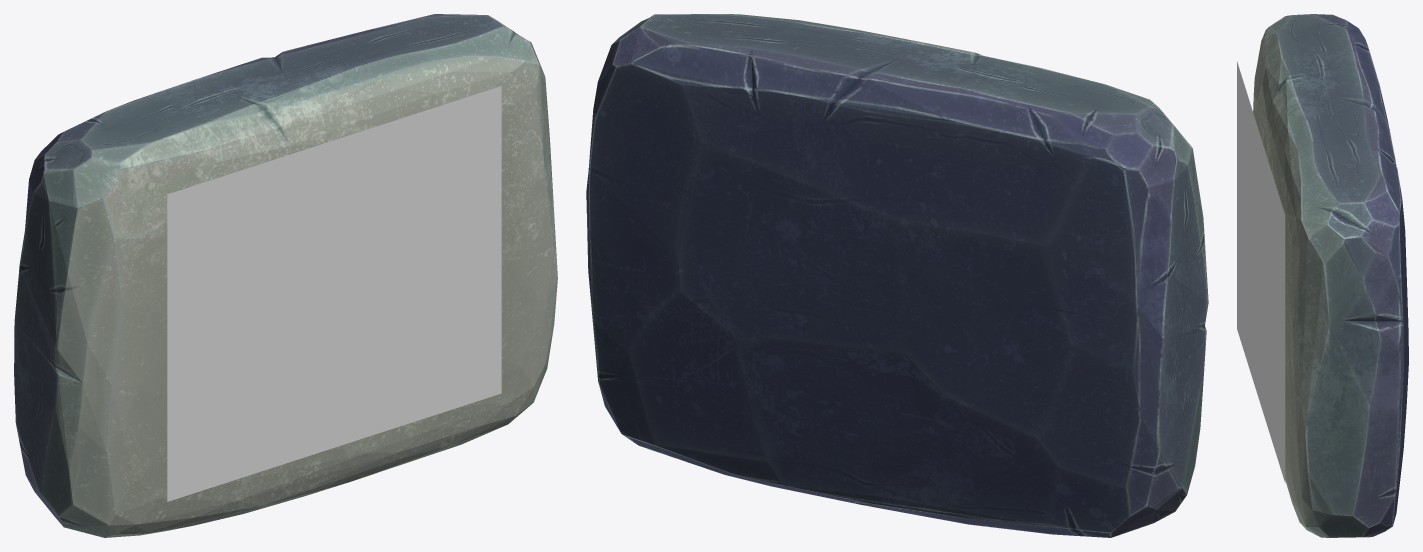
The picture shows the model from 3 angles, left to right: view 1: azimuth 30°, elevation 25°; view 2: azimuth 150°, elevation 25°; view 3: azimuth 270°, elevation 25°; orthographic projection. The views are drawn at different scales.
Visible parts, largest first — view 1: Group15711; view 2: Group15711; view 3: Group15711.
Boxes of the visible parts, x1,y1,x2,y2 form: Group15711: [14, 14, 557, 537]; Group15711: [586, 14, 1208, 537]; Group15711: [1237, 14, 1408, 537].
Size of the model in its own units: 8.34 by 6.25 by 2.71.
Materials: 2 (1 with a texture image).
